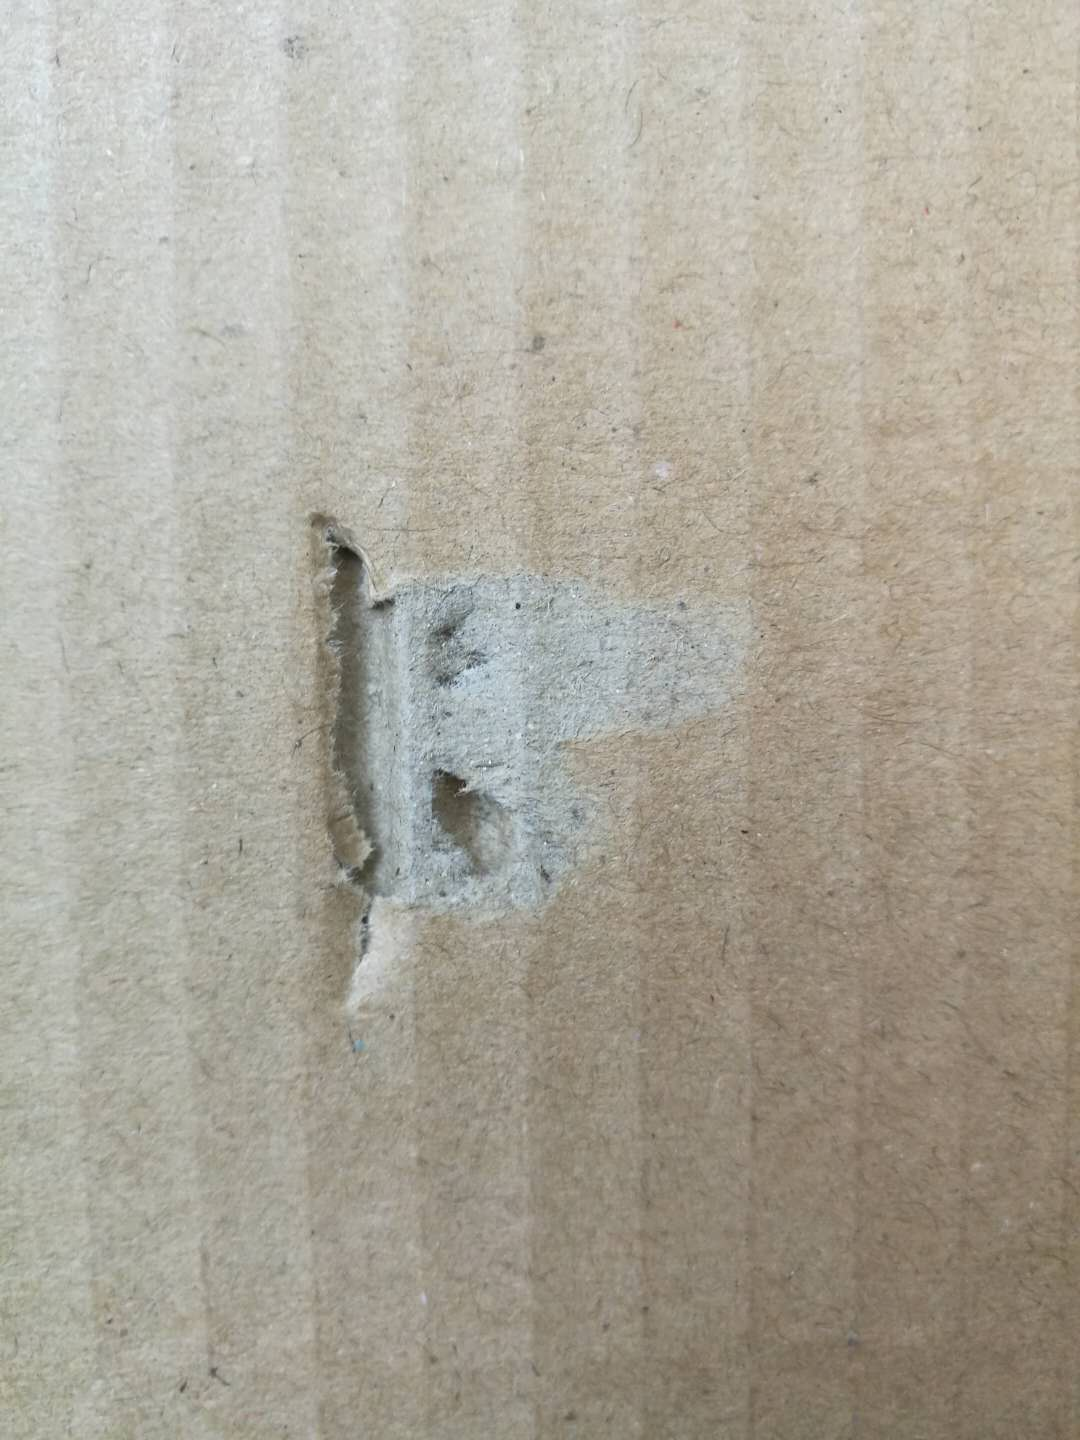defect: (258, 481, 786, 1059)
